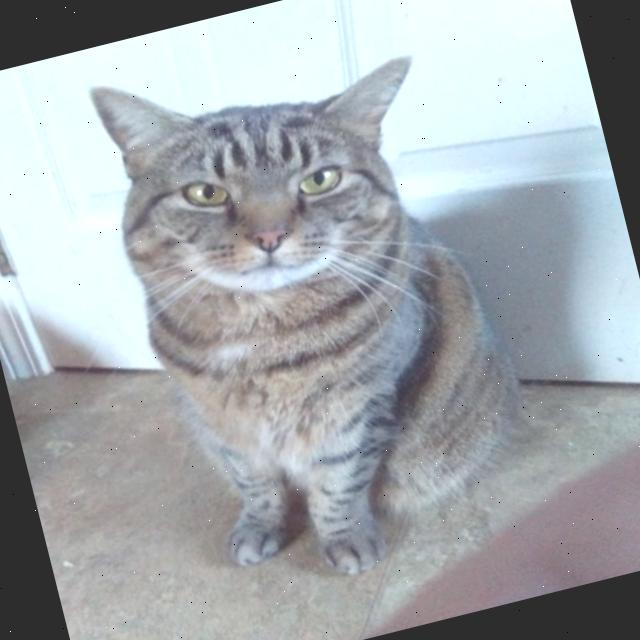manx_cat: (67, 1, 476, 352)
